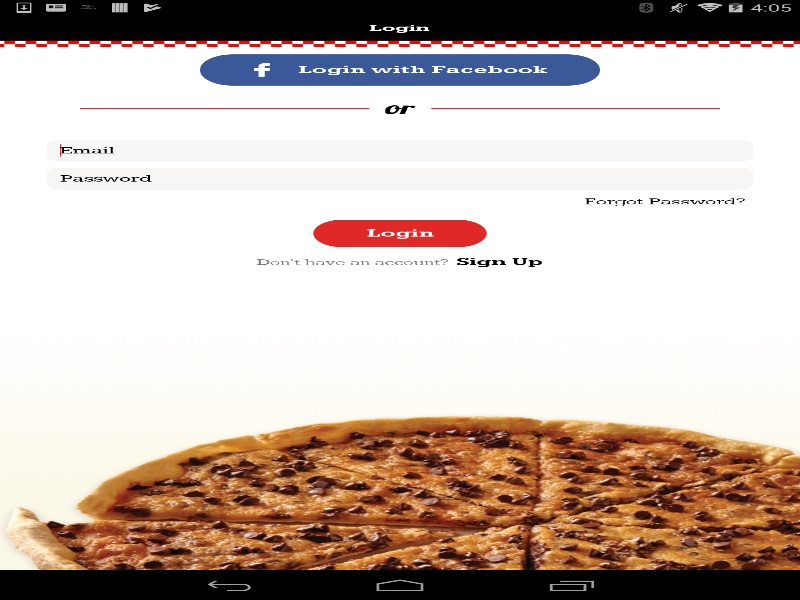Button: (313, 219, 486, 247)
Input: (46, 139, 753, 161), (46, 167, 753, 189)
